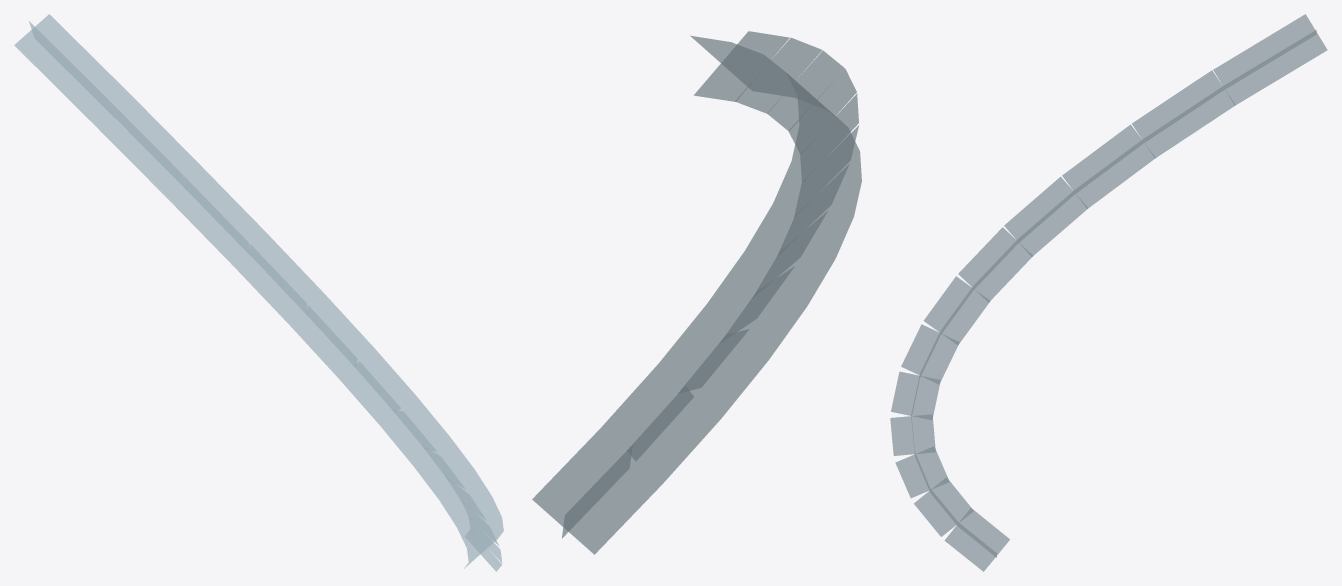
Rendered from wp_water_205.obj.
3 views of the same model, side by side, from view 1: azimuth 30°, elevation 25°; view 2: azimuth 150°, elevation 25°; view 3: azimuth 270°, elevation 25° (orthographic). The views are drawn at different scales.
Bounding box in the file's own units: 0.0984 × 0.1511 × 0.1381.
Materials: 1 (1 with a texture image).
